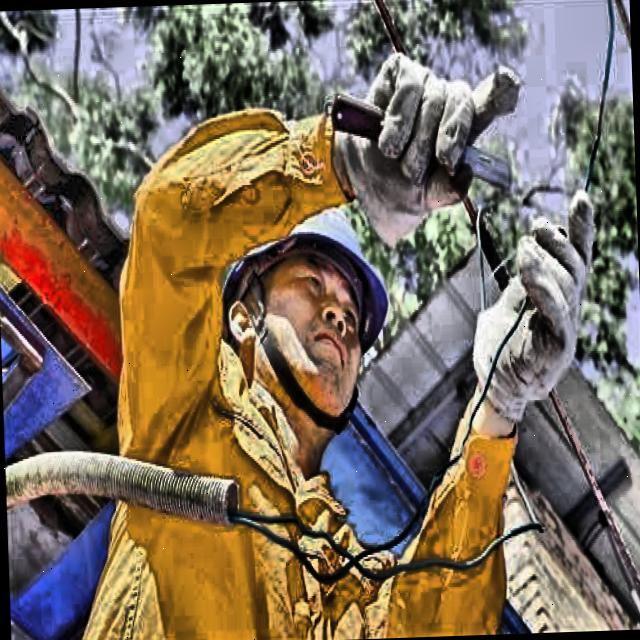helmet: (195, 171, 402, 456)
